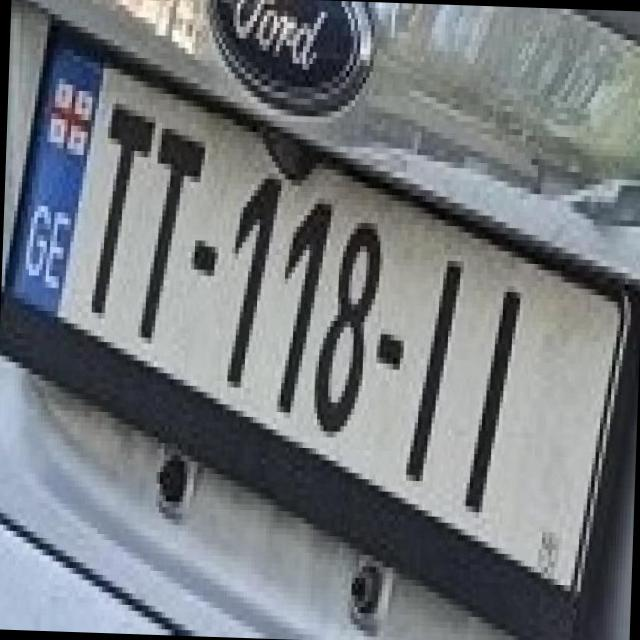1: (444, 266, 531, 514), (252, 166, 336, 414), (203, 147, 289, 389), (388, 235, 471, 482)
8: (299, 191, 395, 439)
T: (117, 103, 213, 340), (65, 72, 156, 314)
